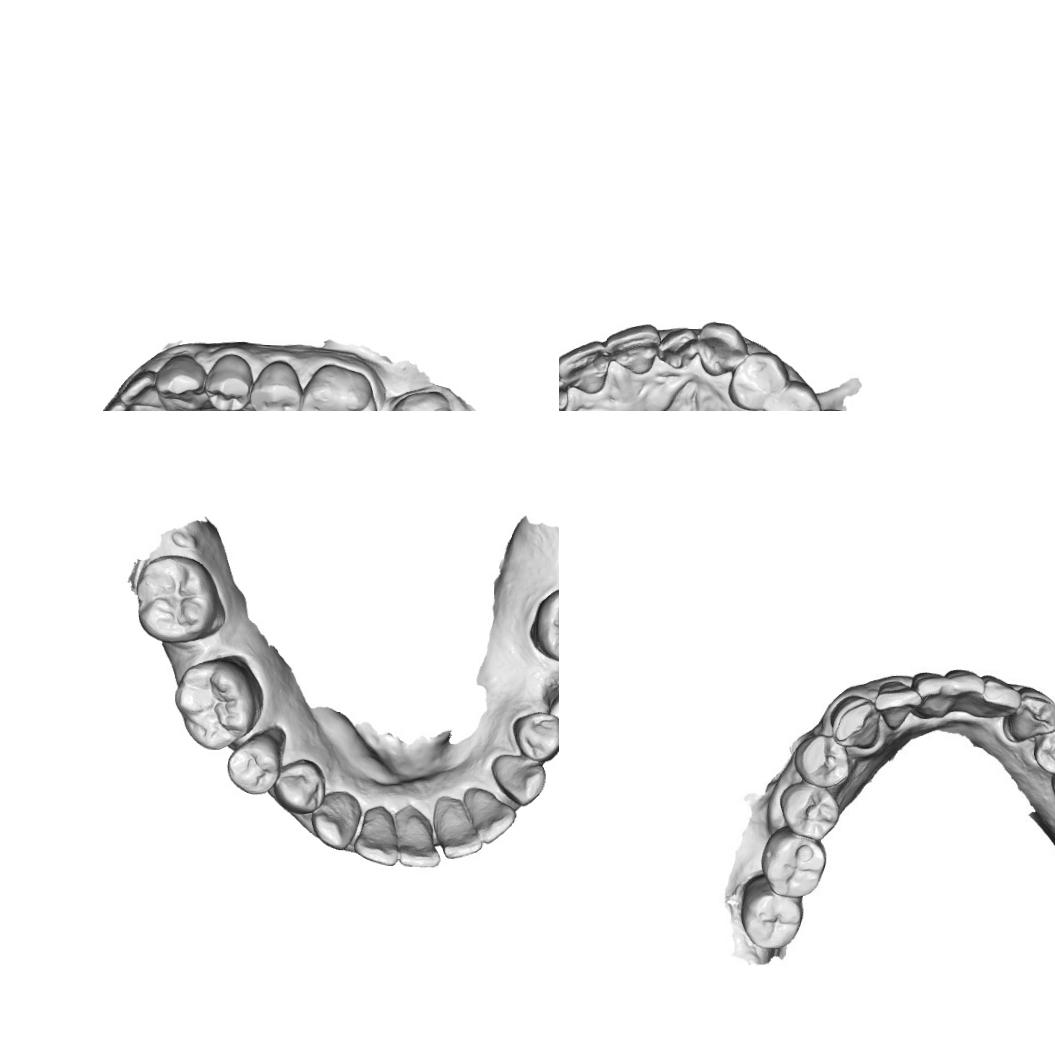canine: (488, 751, 549, 808), (1003, 683, 1055, 747), (308, 790, 364, 849), (153, 352, 208, 411), (828, 693, 884, 750), (696, 320, 748, 378)
incisor: (434, 793, 486, 863), (461, 787, 518, 847), (602, 321, 662, 375), (396, 806, 443, 872), (354, 804, 401, 867), (559, 339, 610, 395), (978, 674, 1024, 722), (914, 670, 954, 722), (878, 678, 920, 725), (946, 670, 985, 718), (655, 327, 698, 370), (116, 369, 159, 411), (97, 400, 139, 411)
molar: (172, 654, 260, 752), (134, 558, 220, 645), (735, 874, 802, 955), (761, 831, 826, 901), (296, 362, 379, 411), (528, 583, 559, 669), (379, 387, 466, 411)
premolar: (778, 778, 842, 844), (725, 349, 790, 411), (790, 730, 855, 790), (224, 735, 284, 796), (245, 359, 305, 411), (202, 352, 254, 411), (273, 756, 324, 815), (510, 707, 559, 766), (762, 378, 823, 411), (1029, 721, 1055, 776)
